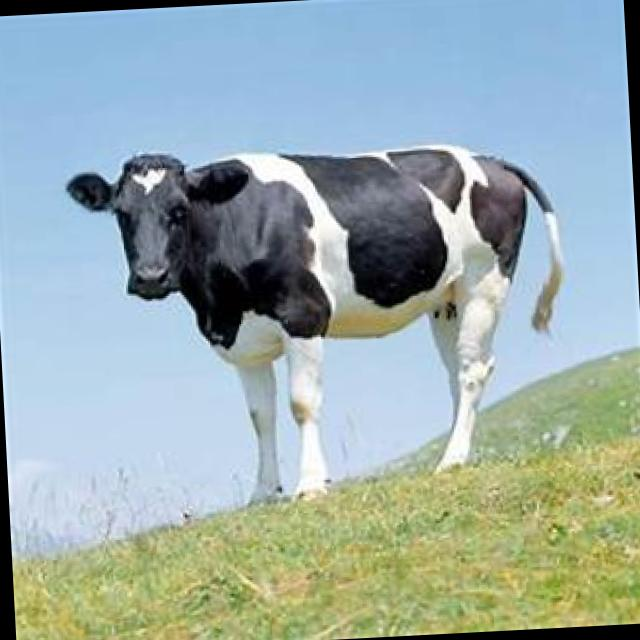animal: (63, 130, 574, 516)
